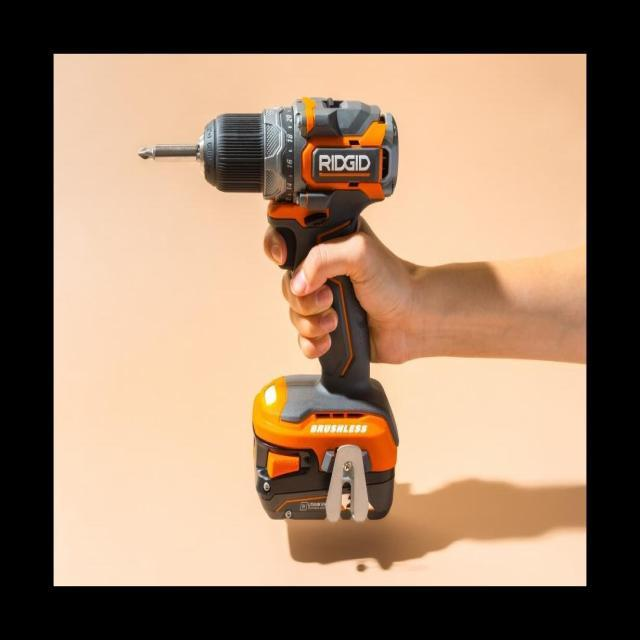drill: (136, 97, 400, 520)
